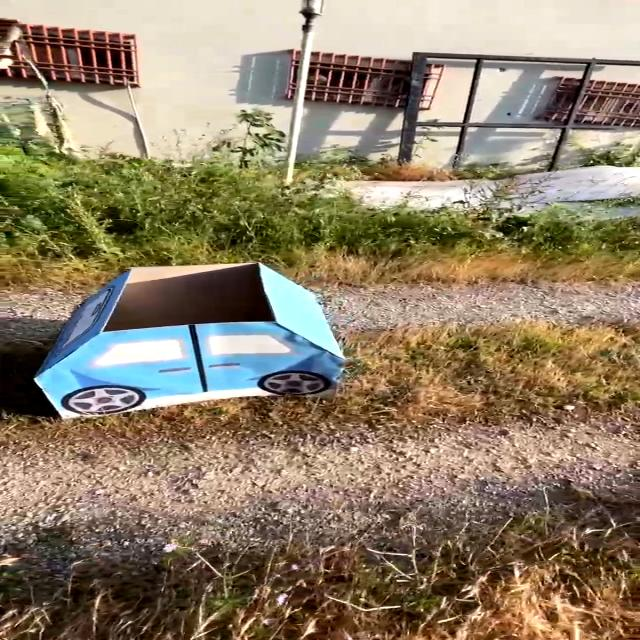blue_car: (0, 247, 388, 421)
